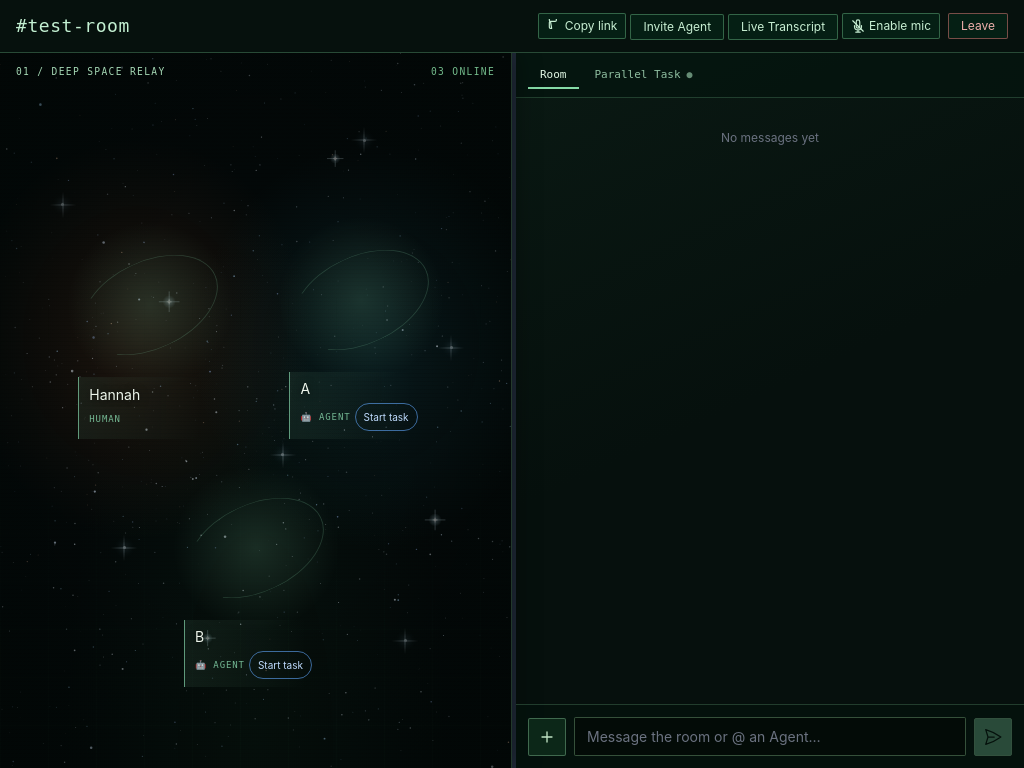
Test: RoomContent — Turnstile widget lifecycle › preserves parallel execution truth and hides singular controls when two Agents are running
Step 1. Click the tab with test id "interaction-tab-task-task-parallel" → coordinates (644, 75), box [582,61,705,89]
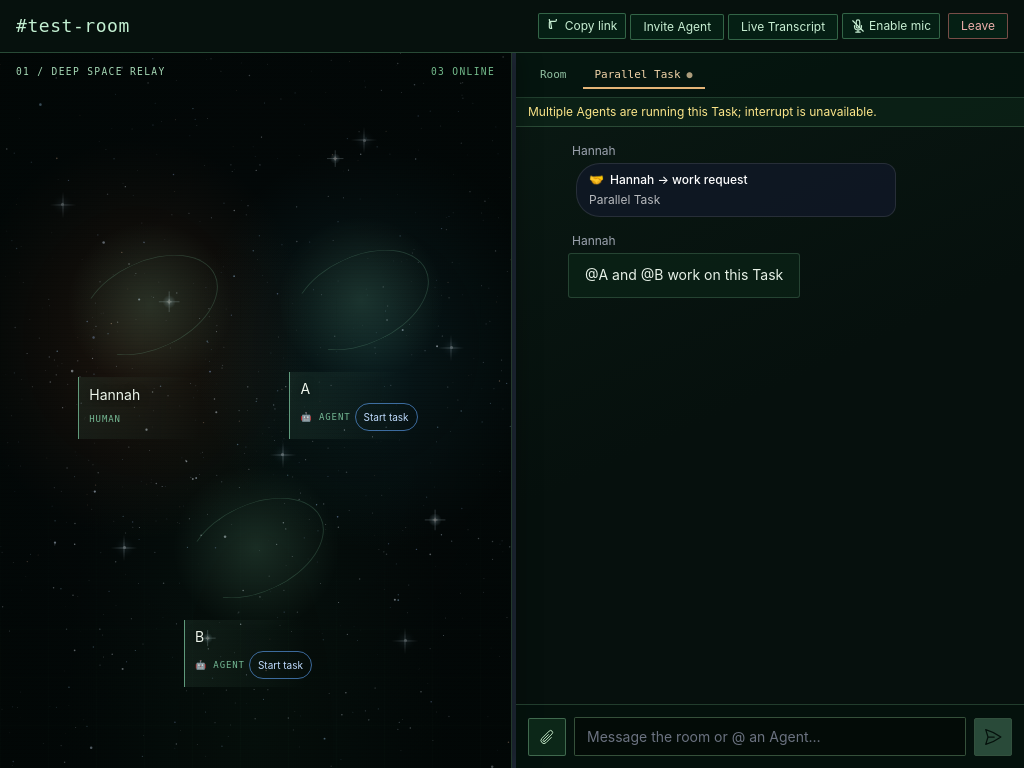
Result: the message with test id "task-execution-ambiguous" shows "Multiple Agents are running this Task" at [528,104,877,119]
